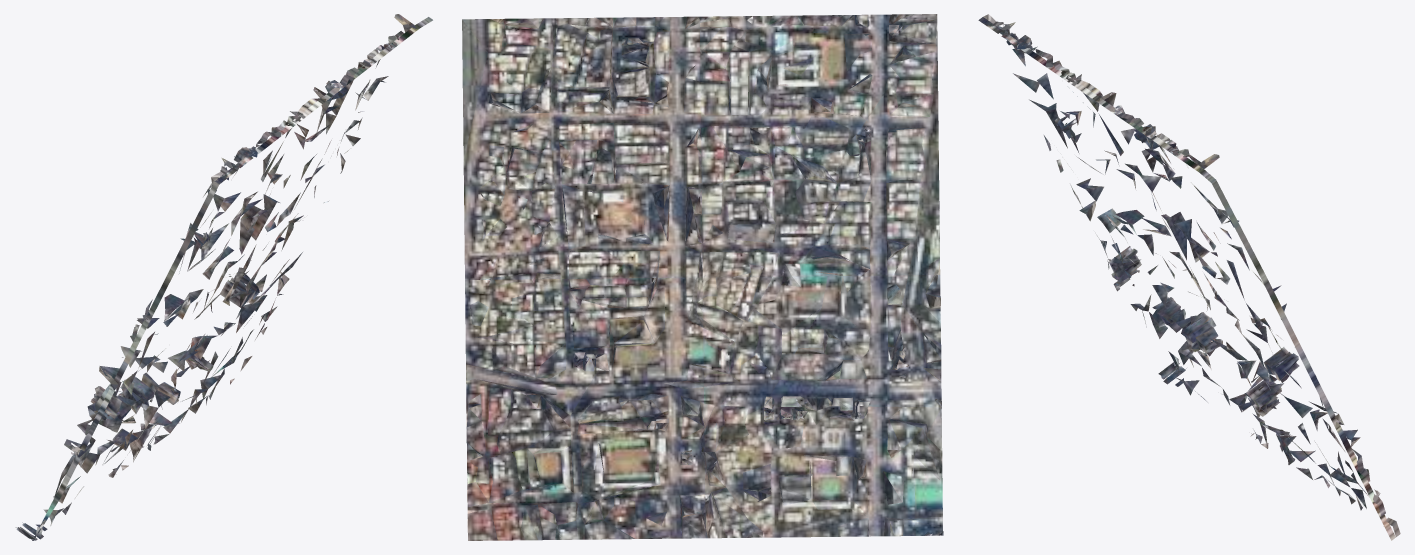
3 views of the same model, side by side, from view 1: azimuth 30°, elevation 25°; view 2: azimuth 150°, elevation 25°; view 3: azimuth 270°, elevation 25° (orthographic). The views are drawn at different scales.
Bounding box in the file's own units: 1258 × 1134 × 1043.
Materials: 2 (2 with a texture image).
